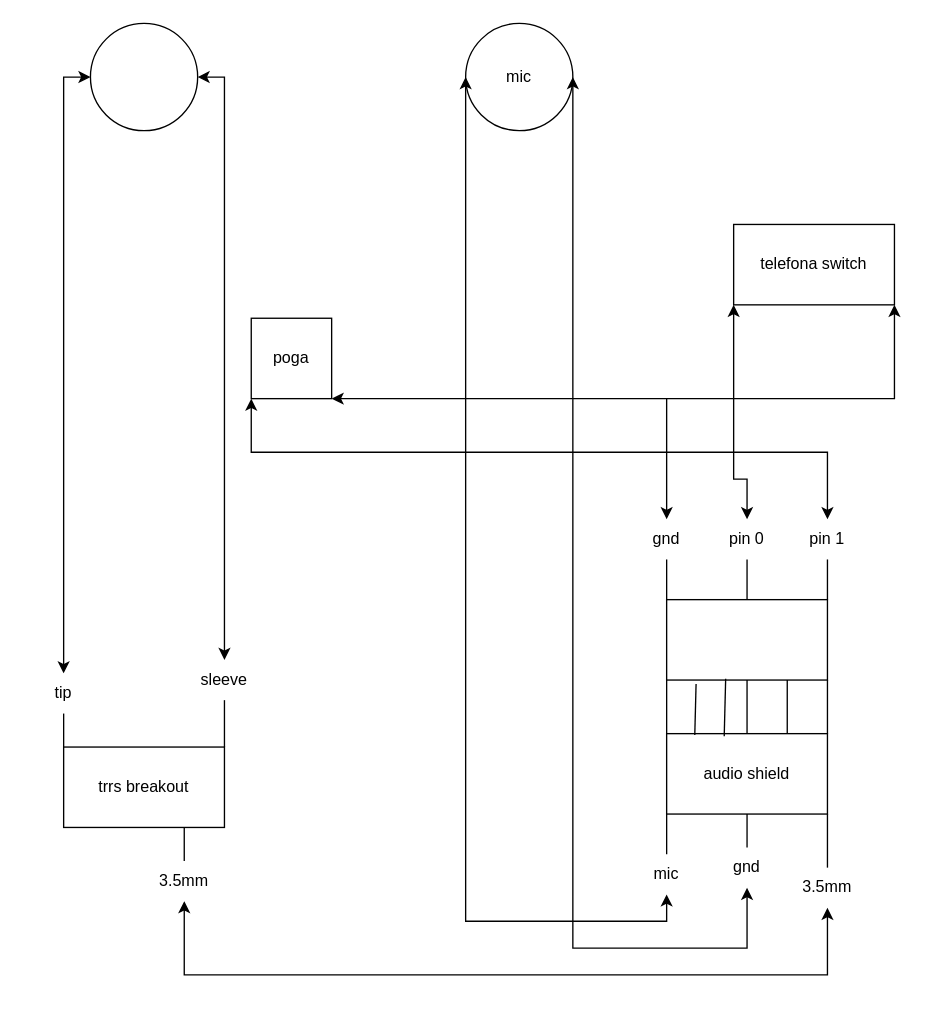
The diagram is 930 pixels wide and 1010 high, and some of its shapes have lost their labels. Here are the shapes that lost their labels. From the top down, the centre of each, then its label:
(143,76): speaker
(746,639): teensyduino
